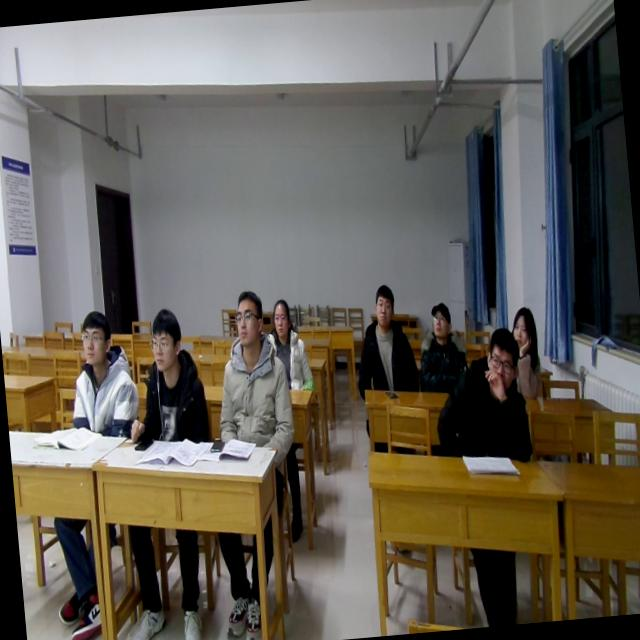lookup: (142, 304, 190, 378), (73, 304, 116, 374), (481, 321, 524, 391), (229, 286, 267, 354), (507, 298, 539, 352), (368, 278, 399, 332), (426, 299, 456, 344), (267, 292, 294, 341)
sit: (426, 323, 534, 469), (207, 287, 296, 453), (118, 306, 212, 450), (62, 306, 144, 446), (348, 282, 420, 397), (413, 298, 473, 396), (264, 294, 315, 394), (506, 303, 546, 405)
